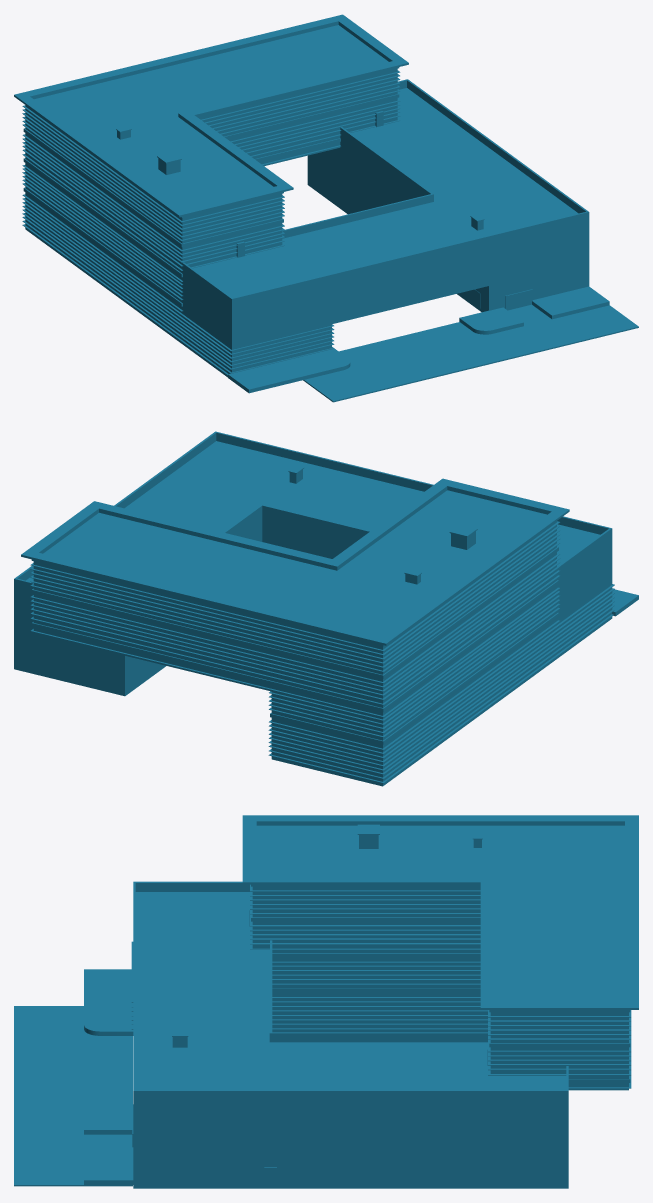
Rendered from yq_peixunlou.glb.
3 views of the same model, one above another, from view 1: azimuth 30°, elevation 25°; view 2: azimuth 150°, elevation 25°; view 3: azimuth 270°, elevation 25° (orthographic). The views are drawn at different scales.
Parts seen in each view (by area): view 1: pxl_outline02, pxl_outline01, pxl_outline03, pxl_03, pxl_05, pxl_outline00, pxl_00, pxl_02, pxl_01, pxl_04; view 2: pxl_outline02, pxl_outline01, pxl_03, pxl_05, pxl_outline00, pxl_04, pxl_15; view 3: pxl_outline02, pxl_outline01, pxl_outline03, pxl_03, pxl_05, pxl_outline00, pxl_00, pxl_02, pxl_01, pxl_04, pxl_15.
Part boxes in pixels (x1,y1,x2,y2): pxl_outline02: (25,68,589,377); pxl_outline01: (14,14,408,217); pxl_outline03: (303,304,638,402); pxl_03: (22,70,400,270); pxl_05: (22,168,334,375); pxl_outline00: (23,67,399,306); pxl_00: (228,348,350,393); pxl_02: (532,286,609,319); pxl_01: (459,307,523,334); pxl_04: (22,145,340,281); pxl_outline02: (14,431,612,786); pxl_outline01: (21,478,569,645); pxl_03: (30,521,560,705); pxl_05: (268,584,614,783); pxl_outline00: (31,546,558,744); pxl_04: (31,587,560,717); pxl_15: (449,524,477,549); pxl_outline02: (133,881,628,1188); pxl_outline01: (242,815,638,1009); pxl_outline03: (14,1006,132,1186); pxl_03: (250,884,631,1075); pxl_05: (131,941,487,1029); pxl_outline00: (251,884,630,1082); pxl_00: (84,969,133,1035); pxl_02: (84,1146,133,1184); pxl_01: (84,1104,133,1134); pxl_04: (272,961,631,1088); pxl_15: (357,824,379,848).
Size of the model in its own units: 61.33 by 22.87 by 75.74.
